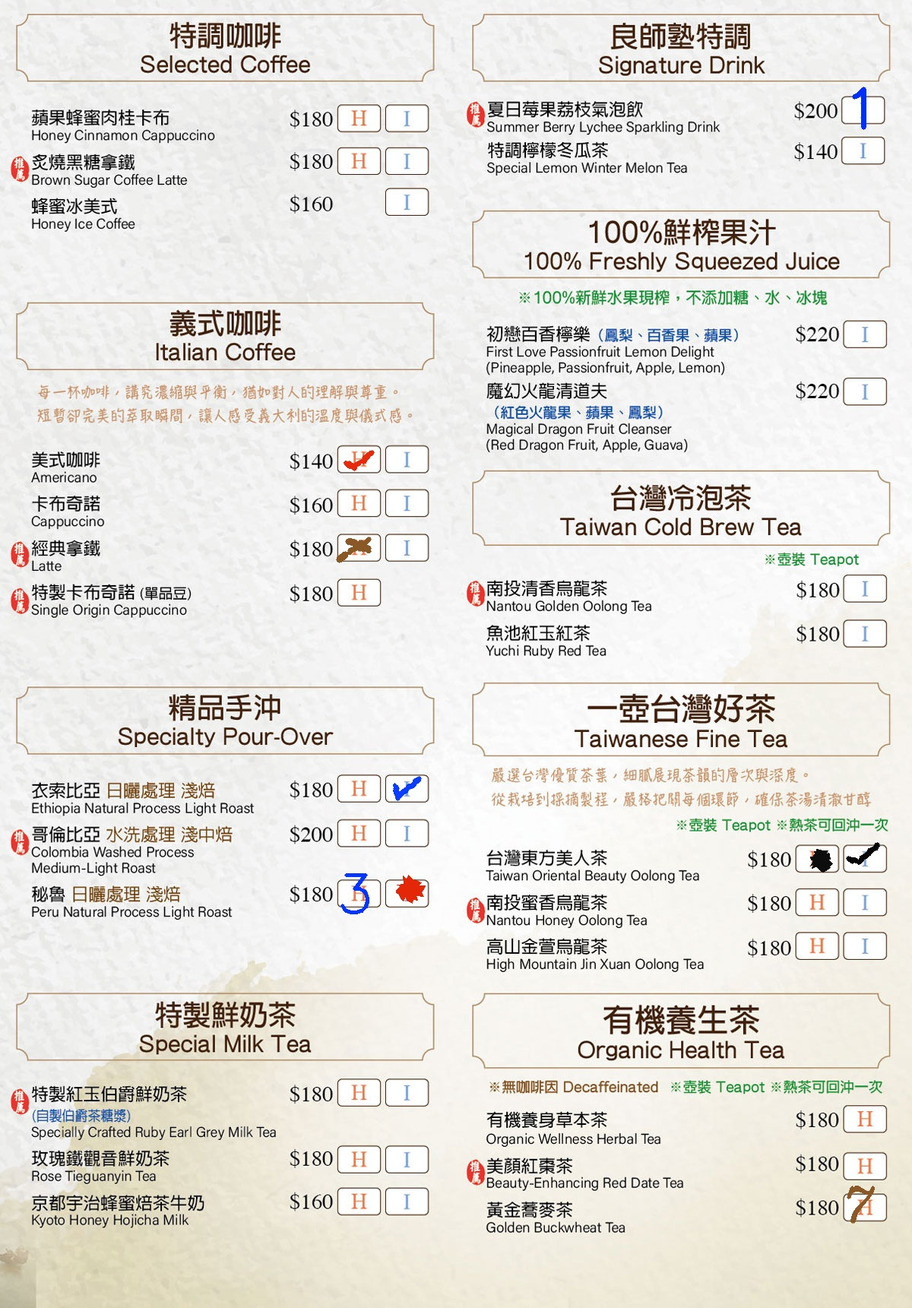marked_circle: (796, 845, 835, 869), (387, 881, 426, 904)
marked_number_1: (844, 98, 883, 122)
marked_number_3: (338, 879, 377, 903)
marked_number_7: (845, 1194, 884, 1218)
marked_tick: (844, 845, 883, 869), (387, 775, 426, 799), (340, 447, 378, 470)
marked_x: (339, 535, 378, 559)
